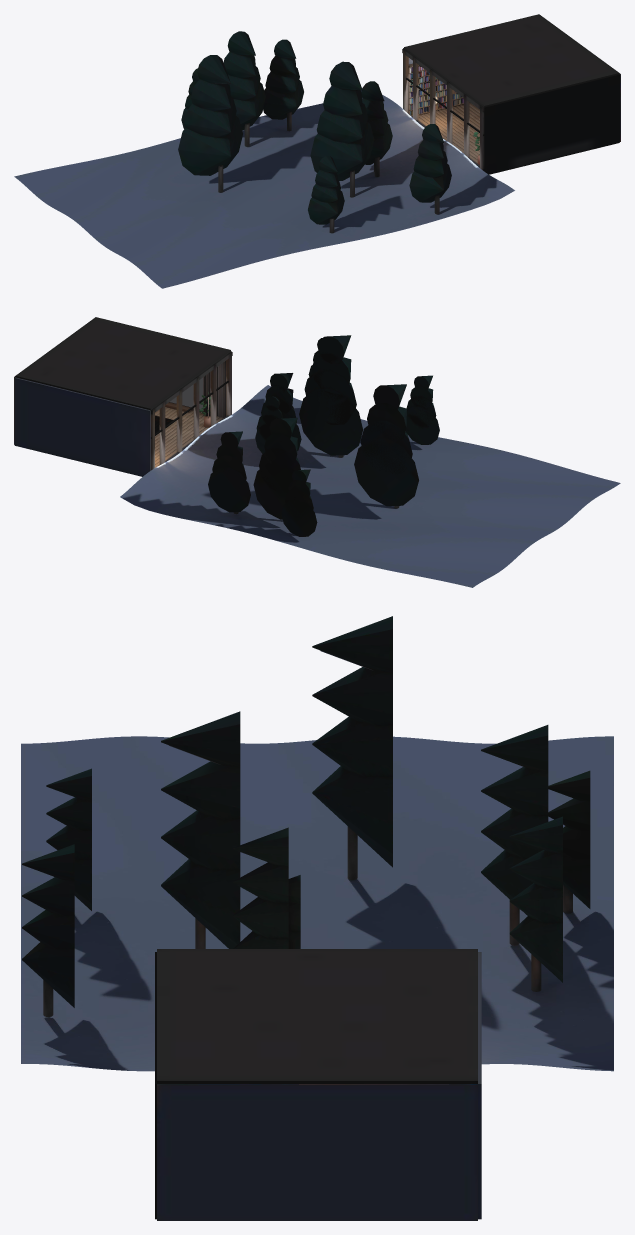
Rendered from winter.glb.
3 renders of one model, top to bottom at view 1: azimuth 30°, elevation 25°; view 2: azimuth 150°, elevation 25°; view 3: azimuth 270°, elevation 25°, orthographic. The views are drawn at different scales.
Visible parts, largest first — view 1: walls@R, hall; view 2: walls@R, hall, lights; view 3: walls@R, hall, walls@L.
Boxes of the visible parts, <box> form: walls@R: <box>14,31,514,288</box>; hall: <box>403,14,619,174</box>; walls@R: <box>120,335,620,587</box>; hall: <box>14,317,231,476</box>; lights: <box>170,377,203,409</box>; walls@R: <box>21,616,613,1071</box>; hall: <box>155,949,481,1219</box>; walls@L: <box>157,1084,477,1220</box>.
Size of the model in its own units: 33.5 by 8.54 by 17.46.
9 materials, 3 textured.
